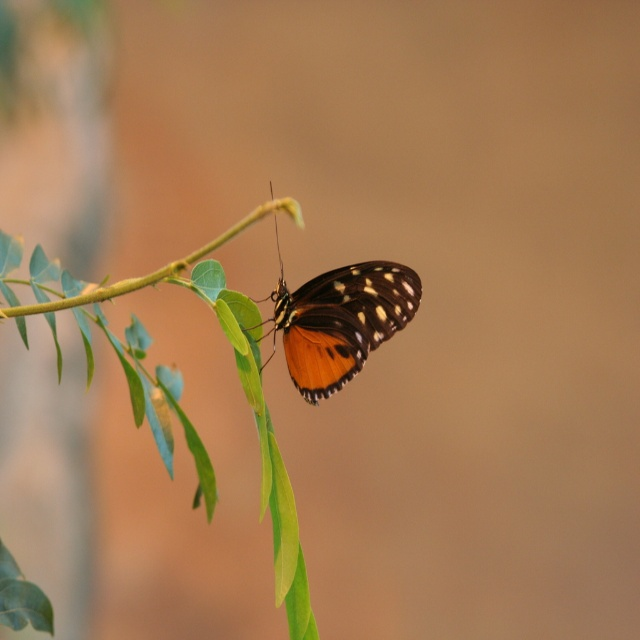Butterfly: (247, 201, 426, 413)
